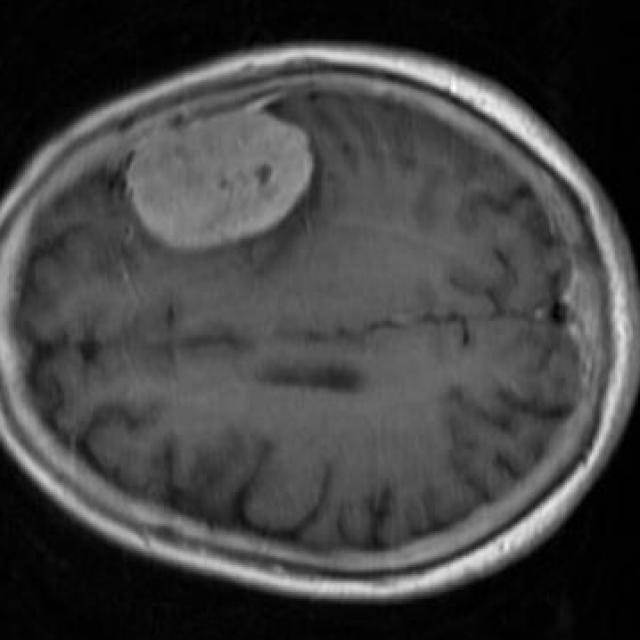meningioma: (127, 111, 314, 246)
